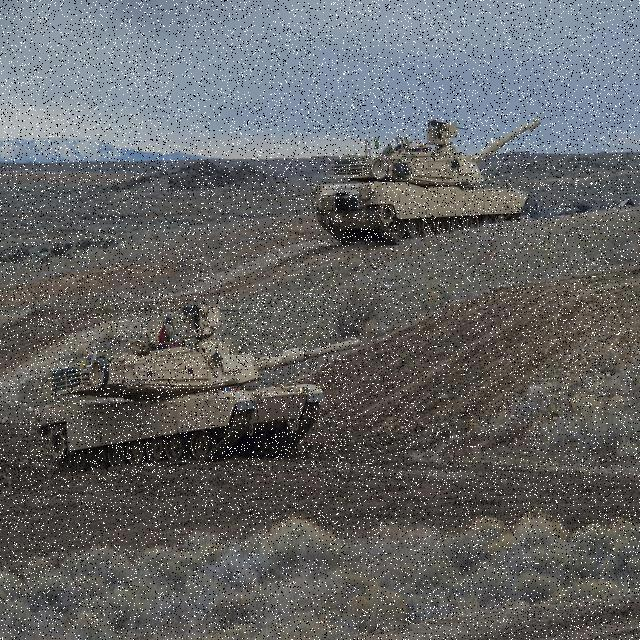MIL_MBT: (36, 293, 347, 475), (313, 91, 529, 243)
